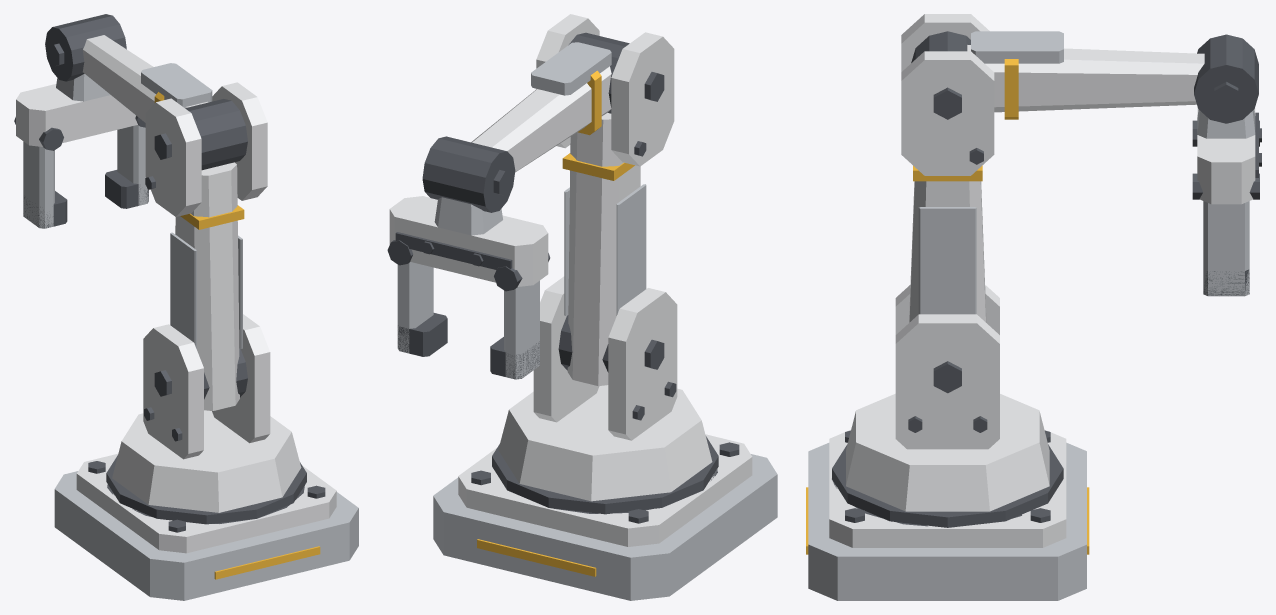
Rendered from ROBOTICARM.fbx.
The picture shows the model from 3 angles, left to right: view 1: azimuth 30°, elevation 25°; view 2: azimuth 150°, elevation 25°; view 3: azimuth 270°, elevation 25°; orthographic projection. The views are drawn at different scales.
Parts seen in each view (by area): view 1: TurretMesh, RobotBase, UpperArmMesh, ForearmMesh, GripperBodyMesh, WristMesh, ElbowJointMesh, LeftFingerMesh, RightFingerMesh, ShoulderJointMesh; view 2: TurretMesh, RobotBase, UpperArmMesh, ForearmMesh, GripperBodyMesh, WristMesh, RightFingerMesh, LeftFingerMesh, ElbowJointMesh, ShoulderJointMesh; view 3: TurretMesh, RobotBase, UpperArmMesh, ForearmMesh, WristMesh, RightFingerMesh, GripperBodyMesh, ElbowJointMesh, ShoulderJointMesh.
Boxes of the visible parts, box(x1,y1,x2,y2) form: TurretMesh: box(106, 314, 306, 524); RobotBase: box(54, 453, 358, 600); UpperArmMesh: box(145, 82, 267, 410); ForearmMesh: box(82, 35, 212, 122); GripperBodyMesh: box(16, 84, 137, 146); WristMesh: box(45, 14, 126, 101); ElbowJointMesh: box(154, 99, 247, 170); LeftFingerMesh: box(14, 117, 67, 228); RightFingerMesh: box(105, 115, 148, 208); ShoulderJointMesh: box(154, 348, 247, 399); TurretMesh: box(492, 276, 718, 514); RobotBase: box(433, 434, 777, 600); UpperArmMesh: box(536, 14, 674, 386); ForearmMesh: box(471, 42, 611, 172); GripperBodyMesh: box(389, 196, 548, 286); WristMesh: box(422, 136, 515, 235); RightFingerMesh: box(387, 240, 447, 356); LeftFingerMesh: box(490, 253, 550, 379); ElbowJointMesh: box(568, 32, 664, 113); ShoulderJointMesh: box(558, 315, 664, 372); TurretMesh: box(832, 285, 1063, 527); RobotBase: box(806, 429, 1089, 600); UpperArmMesh: box(901, 14, 994, 322); ForearmMesh: box(967, 31, 1204, 119); WristMesh: box(1194, 34, 1258, 138); RightFingerMesh: box(1192, 173, 1259, 296); GripperBodyMesh: box(1197, 106, 1261, 204); ElbowJointMesh: box(911, 31, 970, 119); ShoulderJointMesh: box(933, 361, 961, 393).
Bounding box in the file's own units: 240 × 480 × 393.
